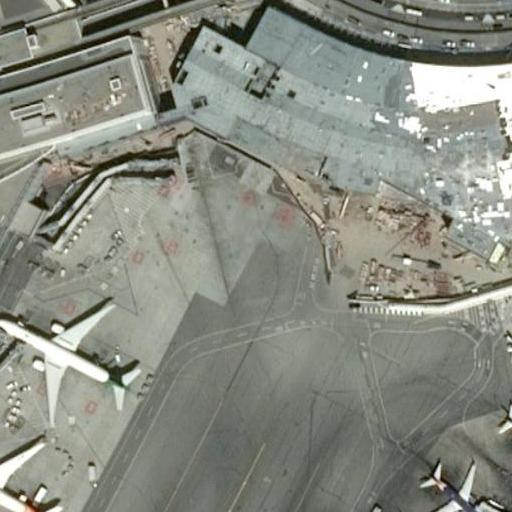Aircraft: (0, 291, 141, 425), (0, 433, 61, 512), (419, 457, 484, 512), (492, 399, 512, 467), (503, 304, 512, 378)
